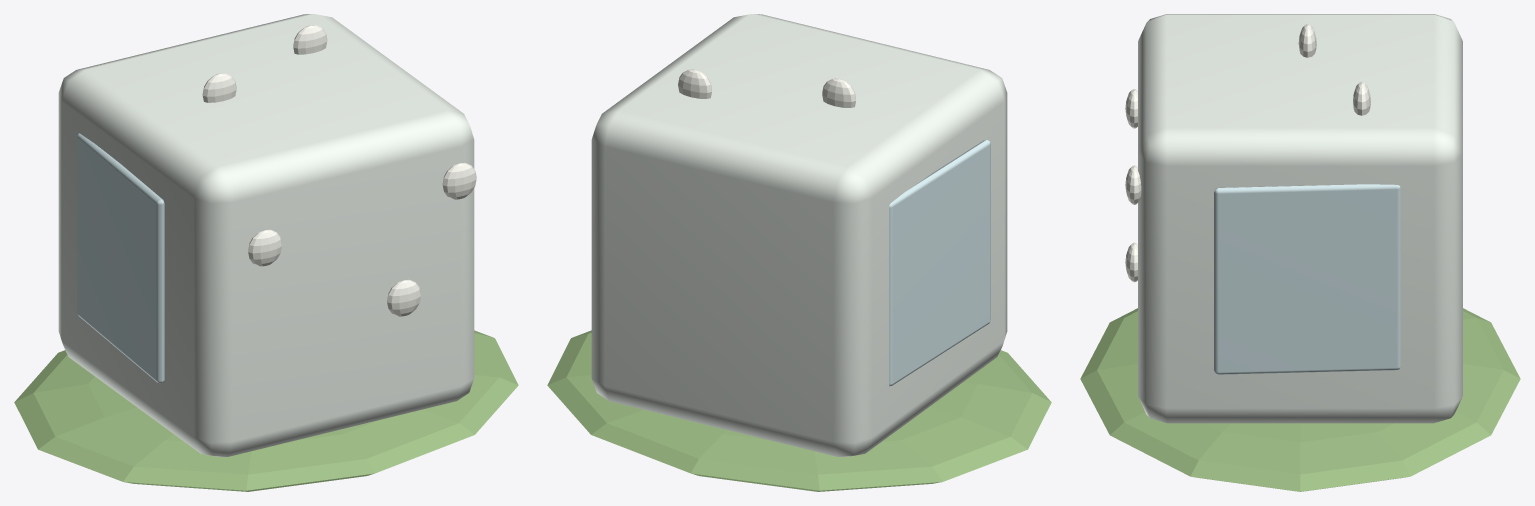
Rendered from SugarCube.fbx.
3 renders of one model, left to right at view 1: azimuth 30°, elevation 25°; view 2: azimuth 150°, elevation 25°; view 3: azimuth 270°, elevation 25°, orthographic.
Visible parts, largest first — view 1: Rounded sugar cube, Leaf serving mat, Sugar side crystal, Shimmering crystal.002, Shimmering crystal, Shimmering crystal.001, Shimmering crystal.003, Shimmering crystal.004; view 2: Rounded sugar cube, Leaf serving mat, Sugar side crystal, Shimmering crystal.003, Shimmering crystal.004; view 3: Rounded sugar cube, Sugar side crystal.001, Leaf serving mat, Shimmering crystal.002, Shimmering crystal.004, Shimmering crystal.003.
Part boxes in pixels (x1=…): Rounded sugar cube: x1=58, y1=14, x2=474, y2=456; Leaf serving mat: x1=14, y1=330, x2=518, y2=491; Sugar side crystal: x1=77, y1=133, x2=164, y2=383; Shimmering crystal.002: x1=442, y1=162, x2=476, y2=199; Shimmering crystal: x1=248, y1=229, x2=281, y2=266; Shimmering crystal.001: x1=387, y1=279, x2=420, y2=316; Shimmering crystal.003: x1=202, y1=73, x2=236, y2=102; Shimmering crystal.004: x1=293, y1=25, x2=327, y2=54; Rounded sugar cube: x1=591, y1=14, x2=1007, y2=456; Leaf serving mat: x1=547, y1=330, x2=1051, y2=491; Sugar side crystal: x1=889, y1=140, x2=990, y2=386; Shimmering crystal.003: x1=822, y1=78, x2=855, y2=107; Shimmering crystal.004: x1=678, y1=69, x2=711, y2=98; Rounded sugar cube: x1=1138, y1=14, x2=1462, y2=423; Sugar side crystal.001: x1=1214, y1=184, x2=1400, y2=374; Leaf serving mat: x1=1080, y1=308, x2=1520, y2=491; Shimmering crystal.002: x1=1125, y1=165, x2=1141, y2=204; Shimmering crystal.004: x1=1353, y1=81, x2=1370, y2=115; Shimmering crystal.003: x1=1298, y1=23, x2=1316, y2=57.
Size of the model in its own units: 148 by 108 by 122.
